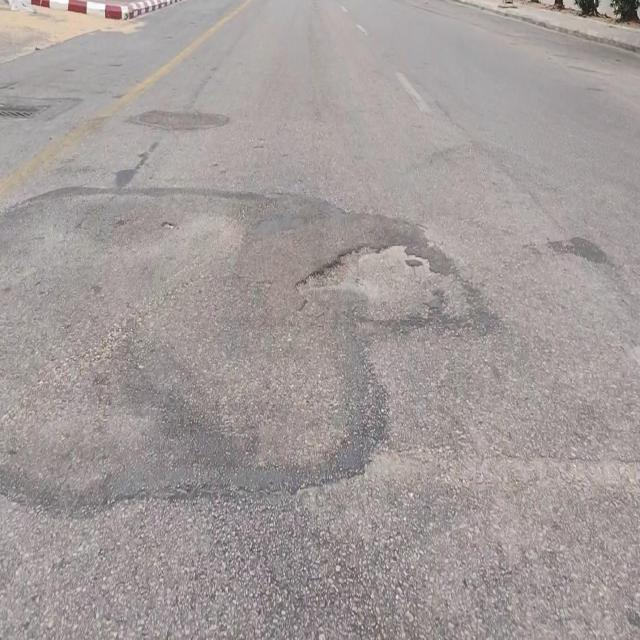Potholes: (302, 241, 442, 305)
